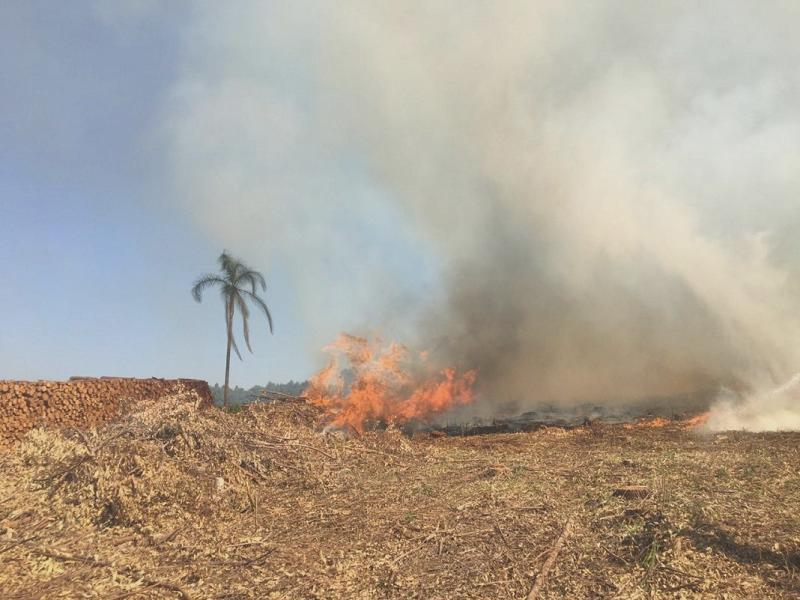Fire: (307, 336, 478, 431)
